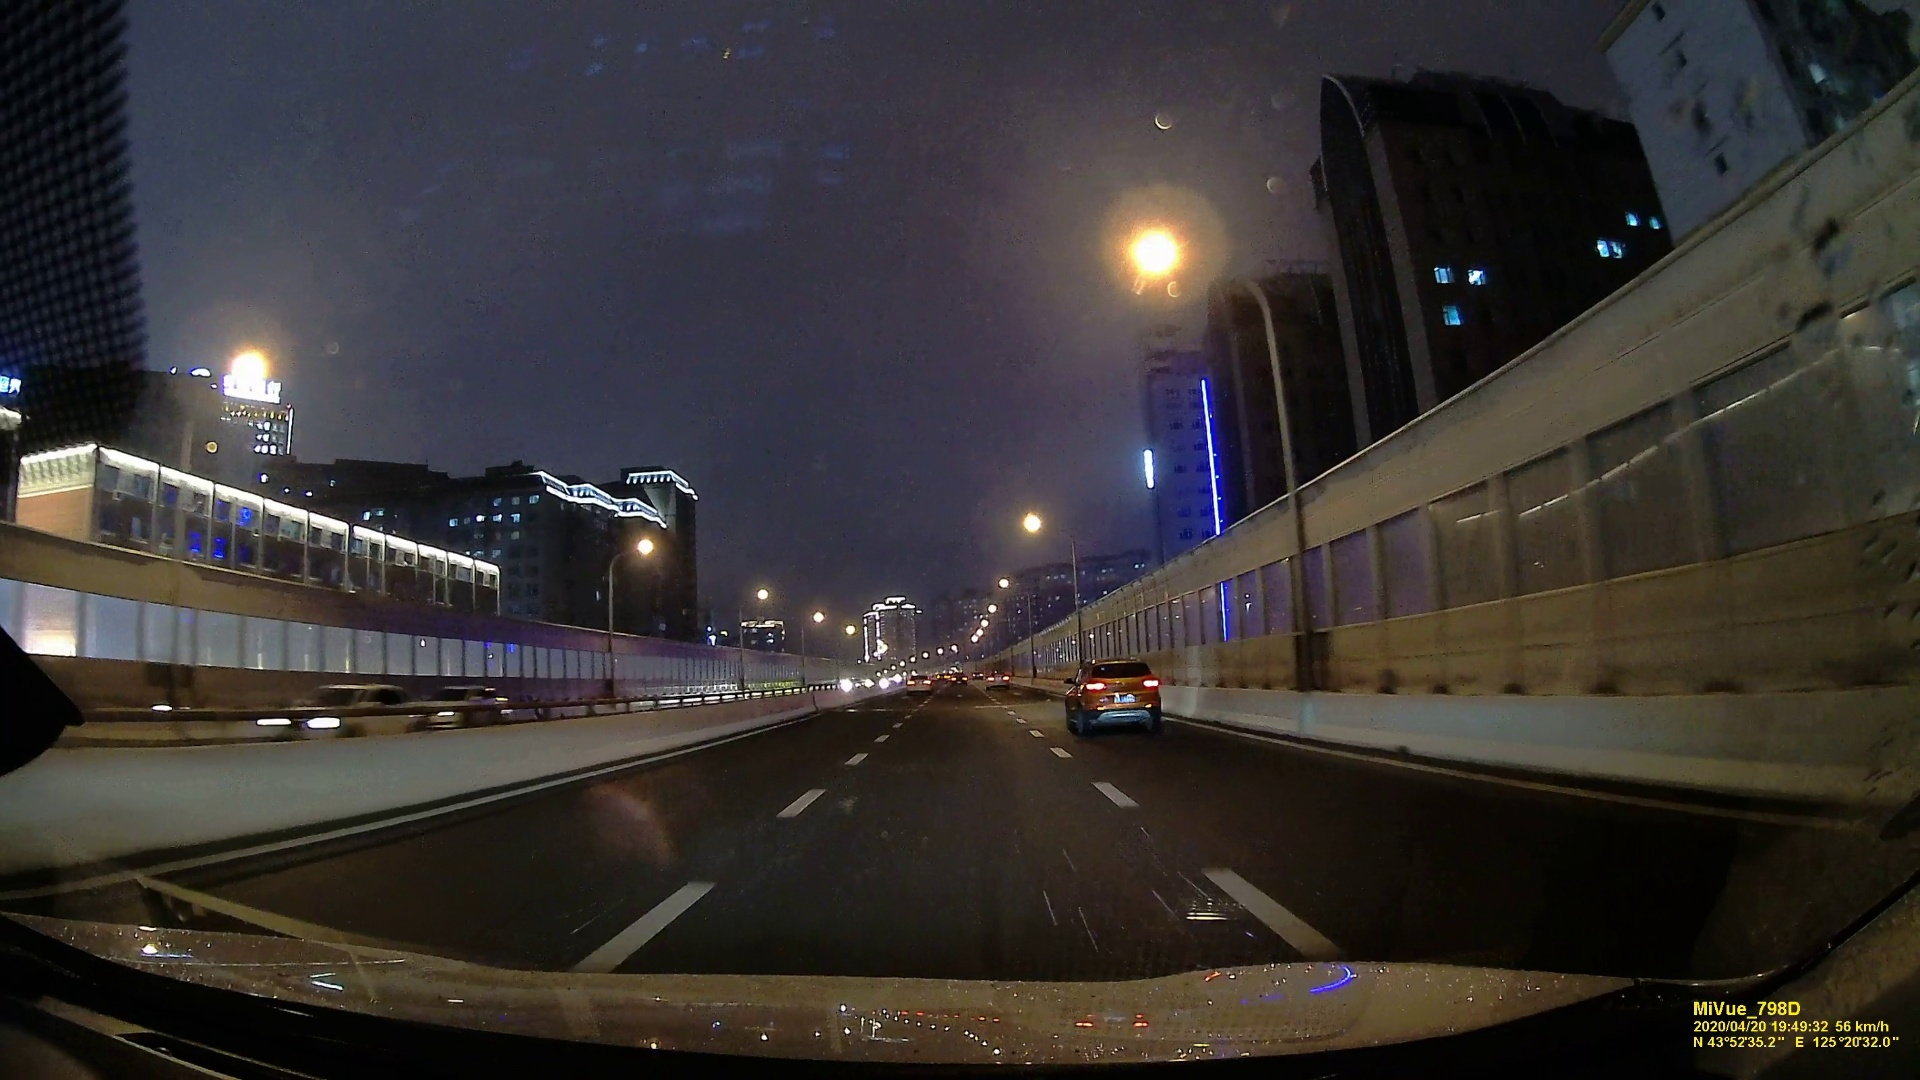vehicle: (265, 680, 414, 738), (1062, 658, 1164, 735), (906, 673, 932, 695), (985, 669, 1011, 690)
